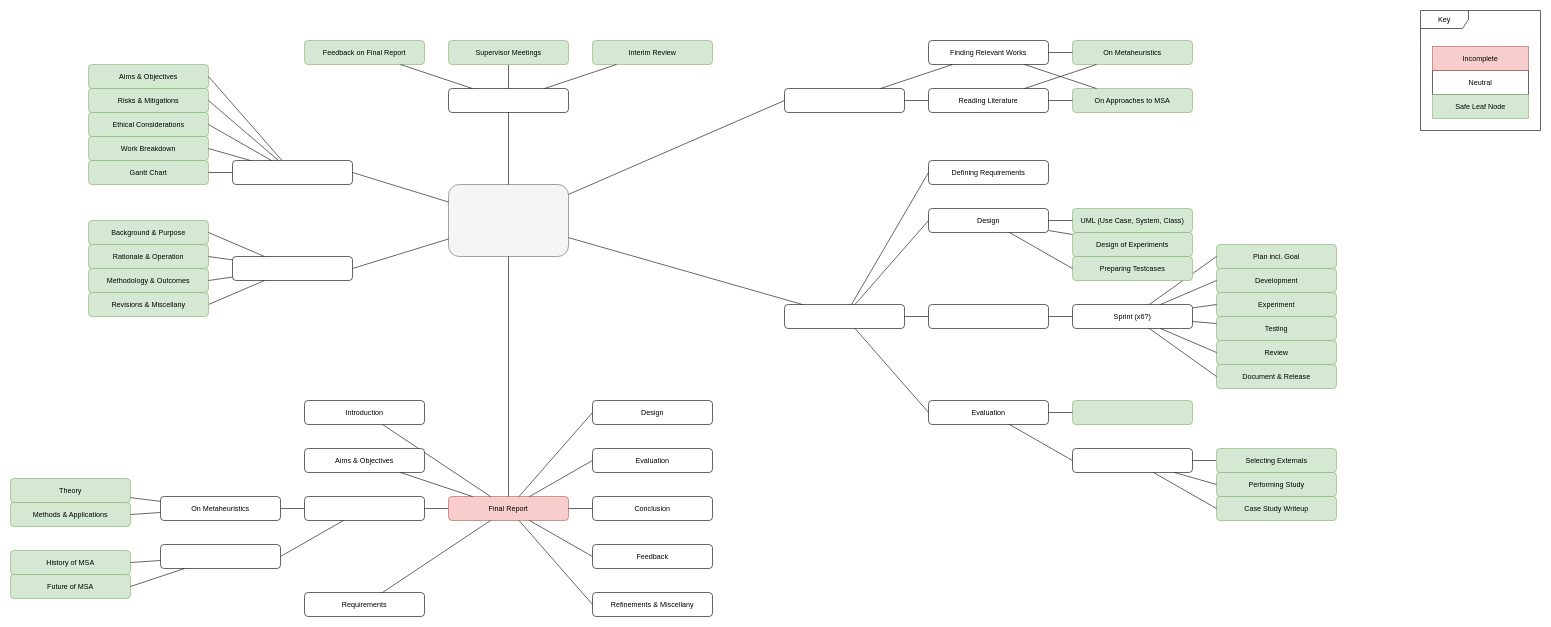
Some shapes in this 1551 by 627 pixel diagram are drawn without their labels. The shapes that lost their labels are listed below. From the top down, each one's centre as x and y in pixels, then its label:
At point 508,100: "Collaboration".
At point 844,100: "Research".
At point 292,172: "Planning".
At point 508,220: "Metaheuristic Alignment Tool".
At point 292,268: "PDD".
At point 844,316: "Software Development".
At point 988,316: "Iterative Development".
At point 1132,412: "Testing FRs & NFRs".
At point 1132,460: "Case Study against Externals".
At point 364,508: "Literature Review".
At point 220,556: "On Bioinformatics".
